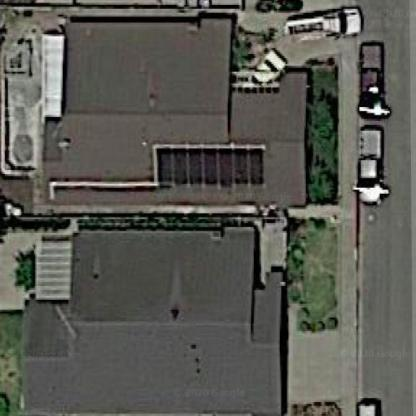car: (336, 129, 395, 212), (281, 5, 369, 45), (358, 41, 388, 131)
solar_panel: (127, 132, 272, 196)
